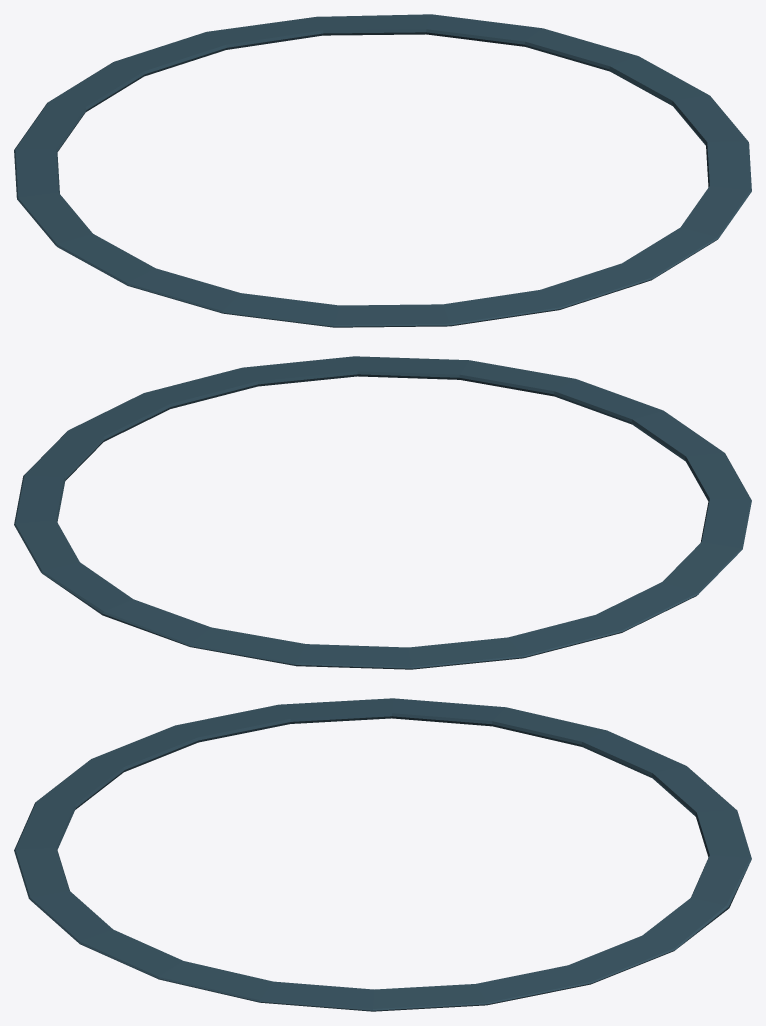
File: Blue_Planet_Ring_01_LOD1.fbx
3 views of the same model, one above another, from view 1: azimuth 30°, elevation 25°; view 2: azimuth 150°, elevation 25°; view 3: azimuth 270°, elevation 25° (orthographic).
Visible parts, largest first — view 1: Blue_Planet_Ring_01_LOD1; view 2: Blue_Planet_Ring_01_LOD1; view 3: Blue_Planet_Ring_01_LOD1.
Part boxes in pixels (box(x1,y1,x2,y2)): Blue_Planet_Ring_01_LOD1: box(14, 14, 751, 327); Blue_Planet_Ring_01_LOD1: box(14, 356, 751, 669); Blue_Planet_Ring_01_LOD1: box(14, 698, 751, 1011).
Size of the model in its own units: 27812 by 215 by 27812.
